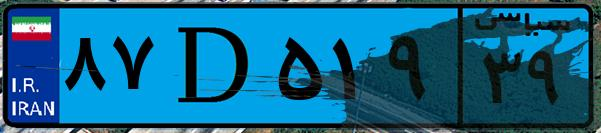1: (330, 28, 385, 110)
3: (475, 38, 525, 113)
5: (270, 28, 330, 110)
7: (110, 28, 158, 98)
8: (57, 26, 110, 100)
9: (385, 28, 445, 110), (525, 38, 570, 115)
D: (158, 12, 270, 120)
